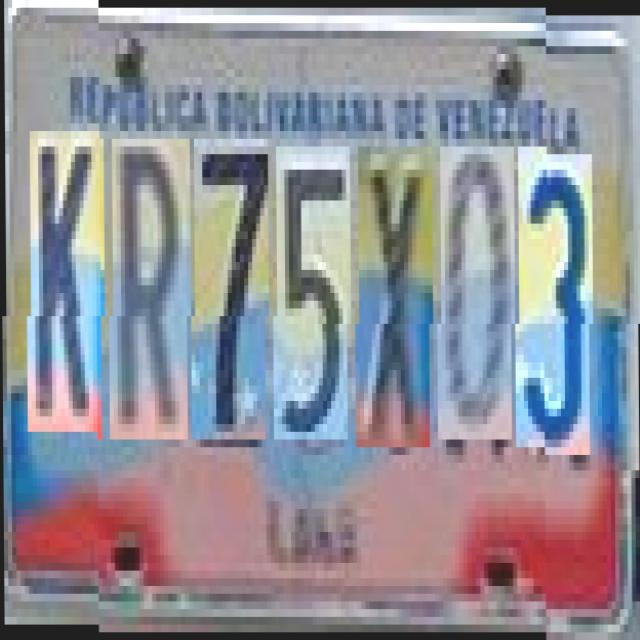3: (518, 146, 594, 448)
5: (276, 146, 352, 440)
7: (193, 138, 269, 440)
K: (29, 138, 105, 440)
O: (440, 146, 516, 440)
R: (111, 138, 191, 440)
X: (358, 146, 433, 448)
